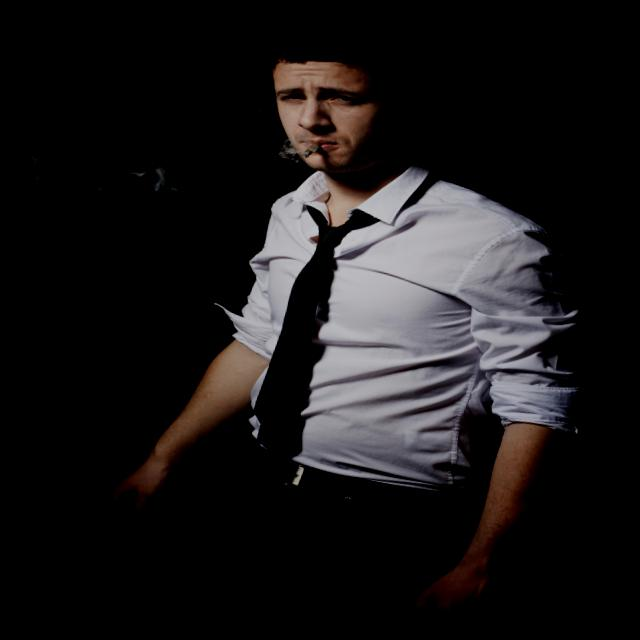smoke: (284, 130, 342, 180)
